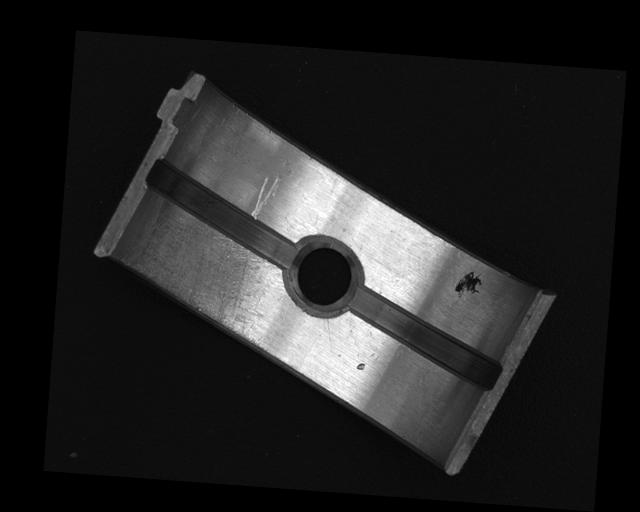blot: (452, 267, 483, 299)
bruise: (356, 361, 366, 371)
gap: (136, 154, 303, 269), (344, 286, 511, 392)
hole: (285, 240, 358, 315)
nick: (249, 171, 281, 220)
scratch: (115, 194, 283, 342)
